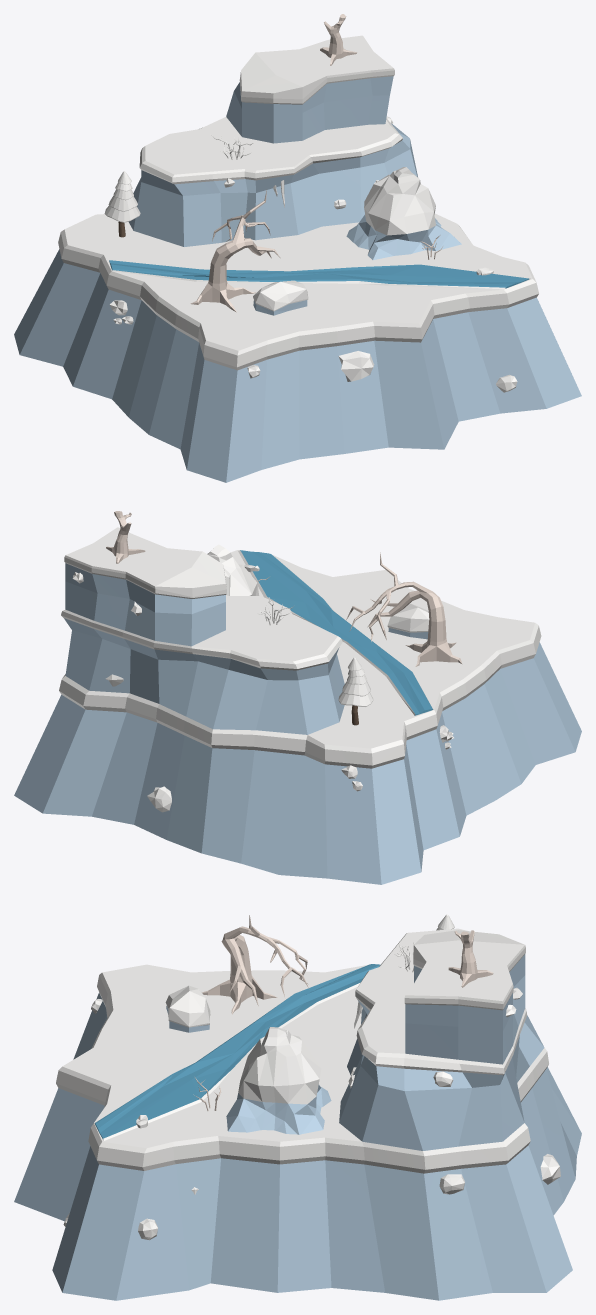
File: Island_2.glb
3 renders of one model, top to bottom at view 1: azimuth 30°, elevation 25°; view 2: azimuth 150°, elevation 25°; view 3: azimuth 270°, elevation 25°, orthographic. The views are drawn at different scales.
Visible parts, largest first — view 1: Isl2_Base, Isl2_Snowdrift_2, Isl2_Stream, Isl2_Tree_1, Isl2_Snowdrift_1, Isl2_Tree_3, Isl2_Tree_2; view 2: Isl2_Base, Isl2_Stream, Isl2_Tree_1, Isl2_Snowdrift_2, Isl2_Tree_3, Isl2_Snowdrift_1, Isl2_Tree_2; view 3: Isl2_Base, Isl2_Snowdrift_2, Isl2_Stream, Isl2_Tree_1, Isl2_Snowdrift_1, Isl2_Tree_2.
Boxes of the visible parts, x1,y1,x2,y2 form: Isl2_Base: [14, 35, 581, 482]; Isl2_Snowdrift_2: [346, 167, 461, 260]; Isl2_Stream: [109, 260, 530, 289]; Isl2_Tree_1: [190, 189, 280, 312]; Isl2_Snowdrift_1: [253, 280, 308, 315]; Isl2_Tree_3: [104, 171, 140, 237]; Isl2_Tree_2: [320, 14, 356, 65]; Isl2_Base: [14, 527, 581, 884]; Isl2_Stream: [238, 550, 433, 715]; Isl2_Tree_1: [346, 552, 462, 666]; Isl2_Snowdrift_2: [207, 544, 259, 595]; Isl2_Tree_3: [338, 657, 373, 725]; Isl2_Snowdrift_1: [387, 603, 429, 639]; Isl2_Tree_2: [106, 511, 145, 563]; Isl2_Base: [14, 928, 581, 1300]; Isl2_Snowdrift_2: [226, 1027, 331, 1134]; Isl2_Stream: [94, 964, 380, 1140]; Isl2_Tree_1: [202, 915, 309, 1014]; Isl2_Snowdrift_1: [165, 985, 210, 1032]; Isl2_Tree_2: [448, 930, 493, 987].
Size of the model in its own units: 21.65 by 14.3 by 22.96.
1 material, 1 textured.
